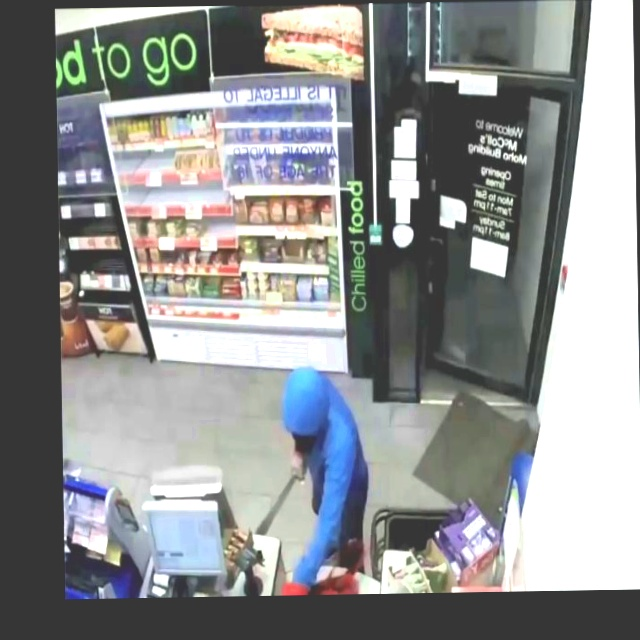gun: (255, 458, 310, 531)
